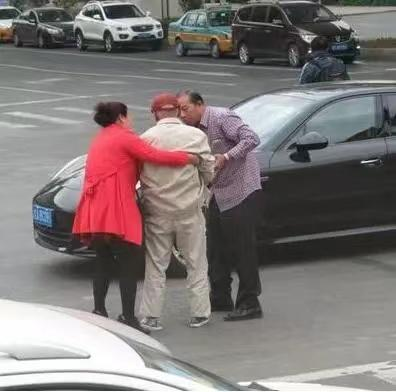bending: (184, 88, 266, 326)
up: (136, 93, 213, 334), (76, 99, 151, 330)
